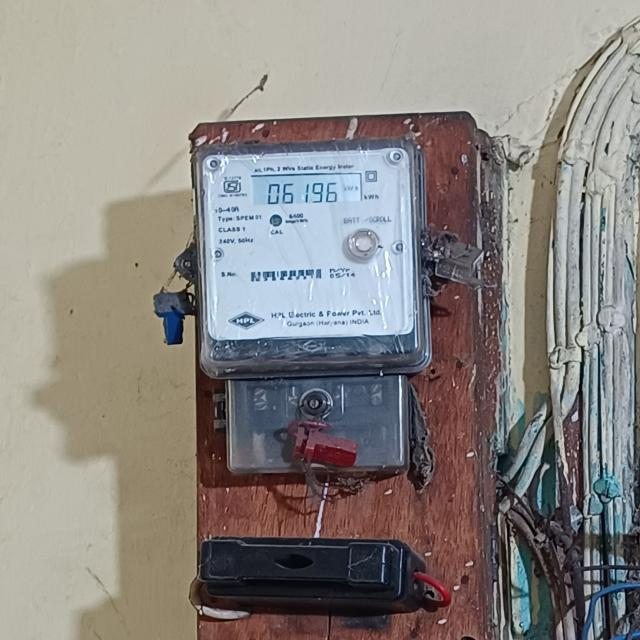display: (246, 170, 367, 210)
